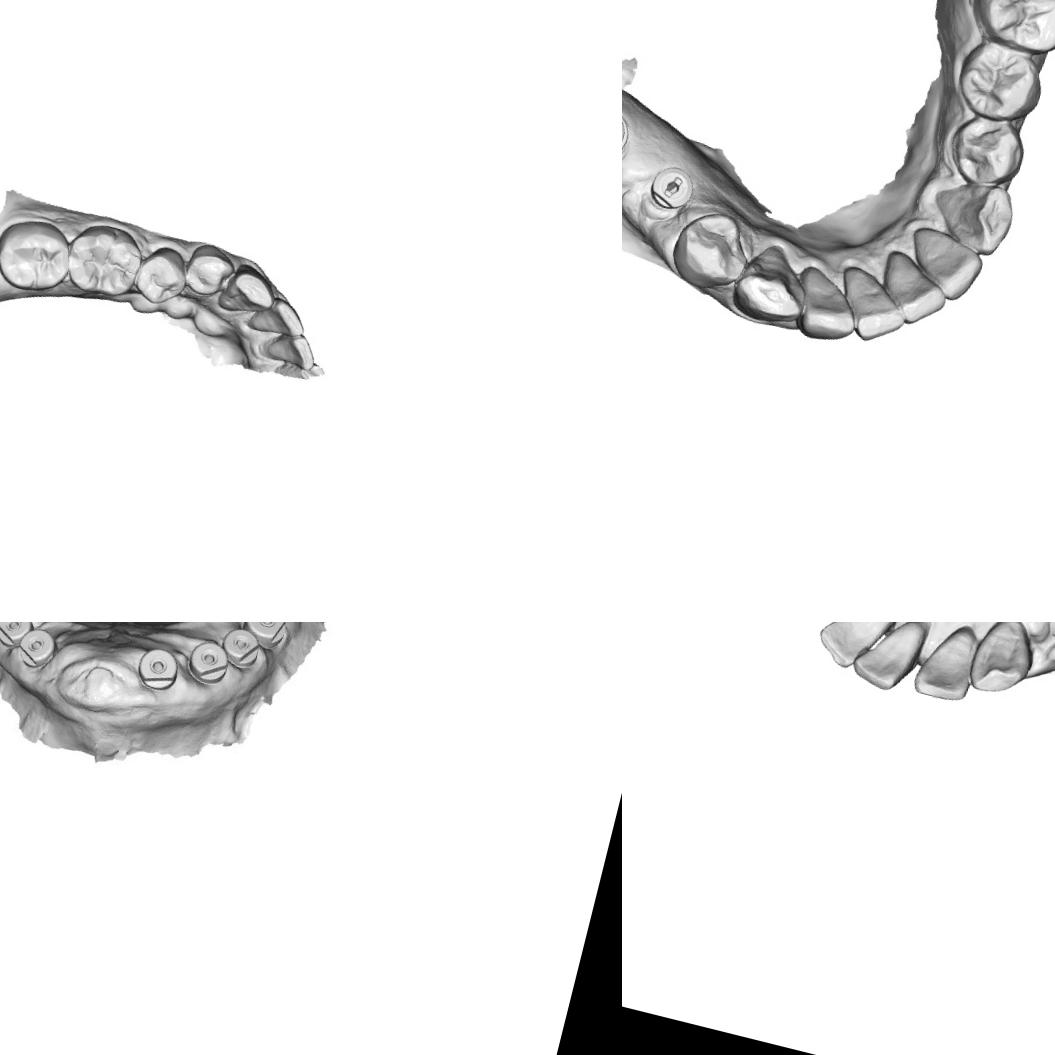canine: (924, 168, 1024, 261), (727, 235, 817, 331), (961, 622, 1040, 702), (213, 259, 282, 324)
implant: (182, 636, 232, 688), (132, 642, 182, 694), (13, 624, 60, 672), (216, 624, 263, 670), (237, 622, 291, 652), (0, 622, 38, 652)
implant_minus: (642, 158, 698, 216)
incisor: (826, 260, 915, 352), (895, 219, 988, 306), (871, 248, 956, 332), (784, 262, 863, 350), (910, 624, 982, 706), (847, 622, 924, 696), (809, 622, 887, 674), (247, 290, 312, 342), (262, 326, 321, 373)
molar: (58, 216, 148, 303), (0, 210, 77, 300), (956, 0, 1055, 61)
premolar: (946, 35, 1051, 131), (664, 200, 758, 297), (943, 109, 1032, 192), (130, 240, 194, 311), (179, 238, 239, 301)
